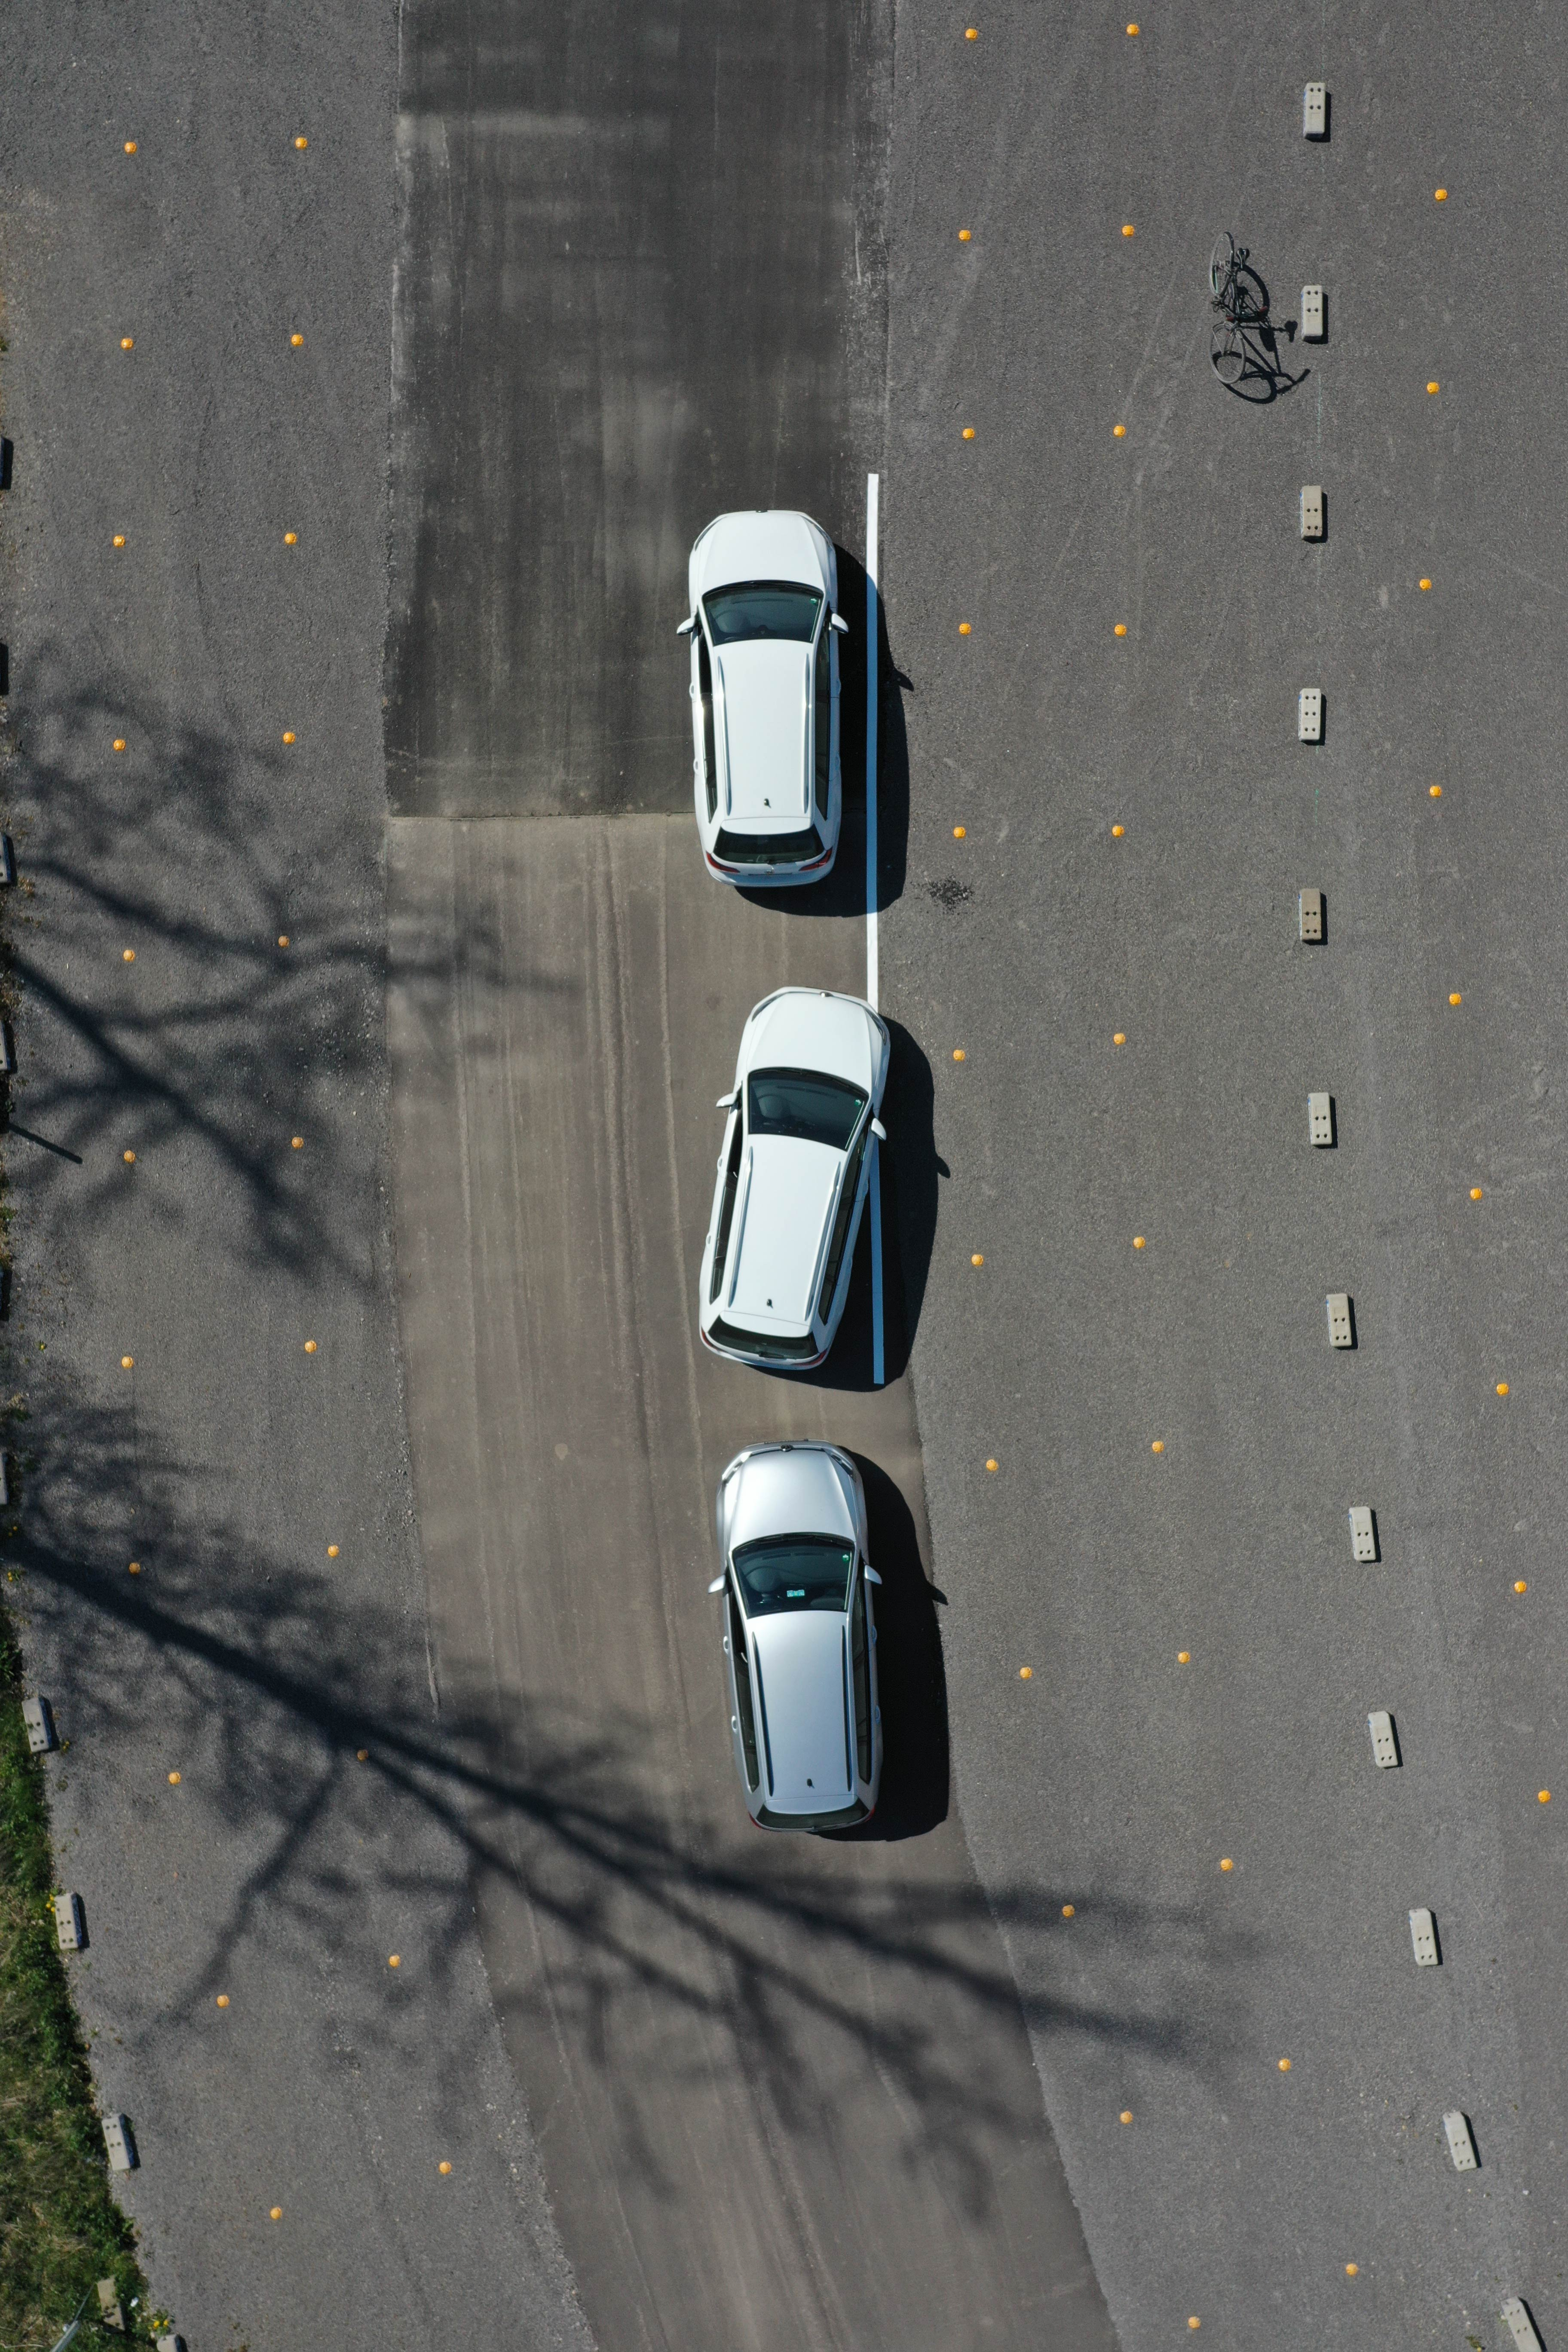Car: (681, 983, 906, 1381), (712, 1435, 906, 1865), (691, 497, 859, 912)
LaneMark: (866, 471, 884, 1001), (875, 1181, 885, 1389)
